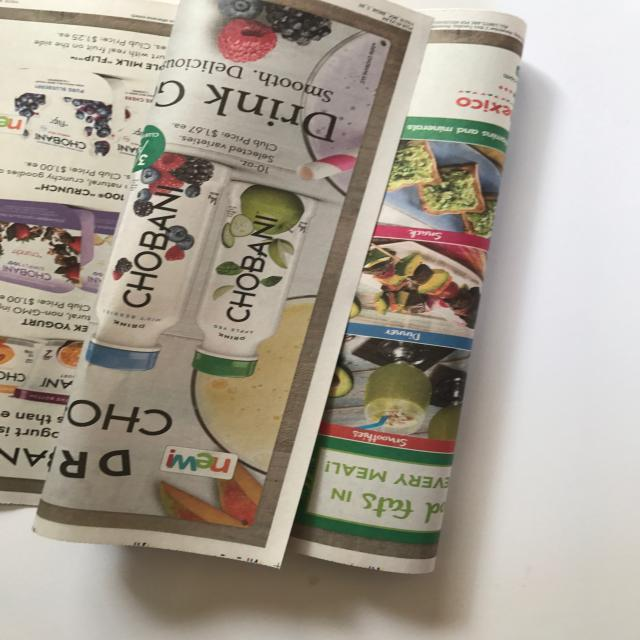paper: (1, 2, 530, 579)
